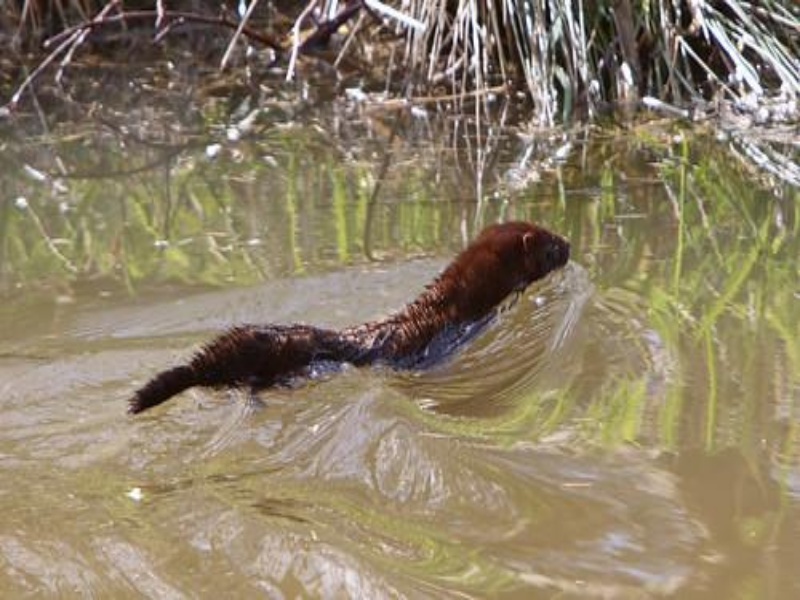minkish: (124, 217, 574, 420)
